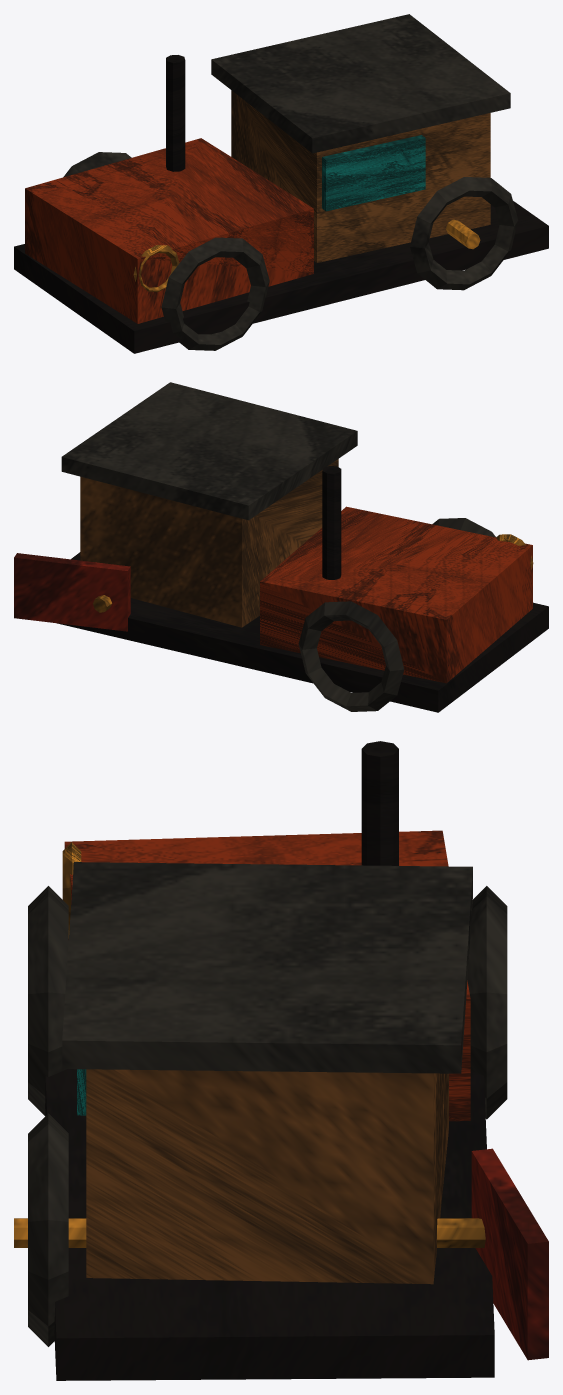
File: flivver-row-west-a.glb
3 renders of one model, top to bottom at view 1: azimuth 30°, elevation 25°; view 2: azimuth 150°, elevation 25°; view 3: azimuth 270°, elevation 25°, orthographic. The views are drawn at different scales.
Visible parts, largest first — view 1: flivver-row-west-a; view 2: flivver-row-west-a; view 3: flivver-row-west-a.
Boxes of the visible parts, x1,y1,x2,y2 form: flivver-row-west-a: (14, 14, 548, 353); flivver-row-west-a: (14, 382, 548, 712); flivver-row-west-a: (14, 741, 548, 1380).
Size of the model in its own units: 5.85 by 2.85 by 3.42.
1 material, 1 textured.
